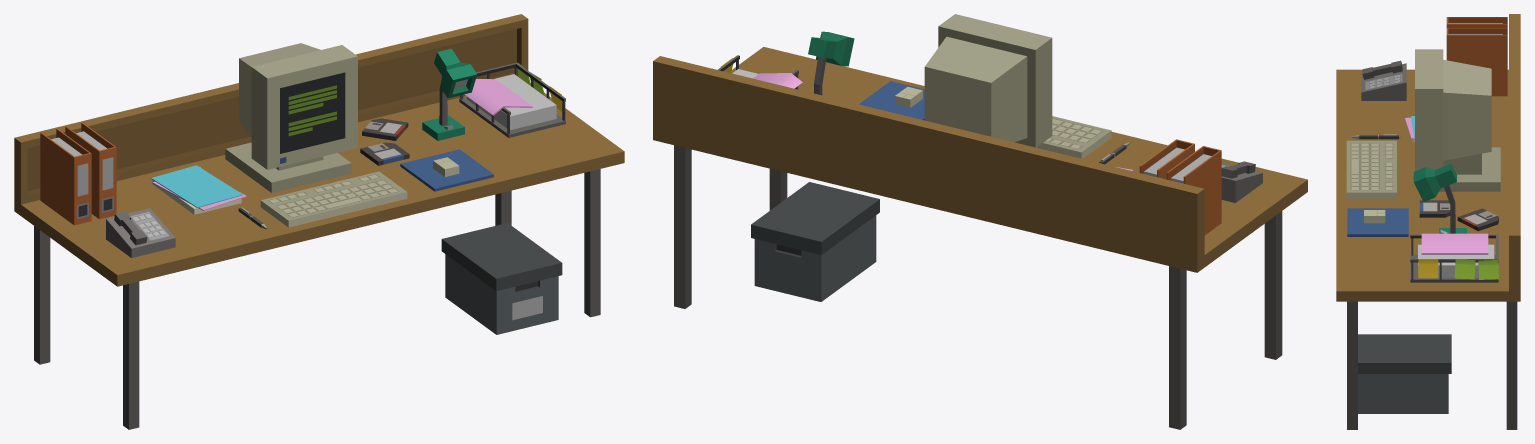
Rendered from SO_DeskPreset_05.fbx.
3 renders of one model, left to right at view 1: azimuth 30°, elevation 25°; view 2: azimuth 150°, elevation 25°; view 3: azimuth 270°, elevation 25°, orthographic. The views are drawn at different scales.
Parts seen in each view (by area): view 1: SO_DeskPreset_05; view 2: SO_DeskPreset_05; view 3: SO_DeskPreset_05.
Boxes of the visible parts, x1,y1,x2,y2 form: SO_DeskPreset_05: (14,14,624,429); SO_DeskPreset_05: (653,14,1307,429); SO_DeskPreset_05: (1336,14,1520,429).
Size of the model in its own units: 5.11 by 2.7 by 1.8.
